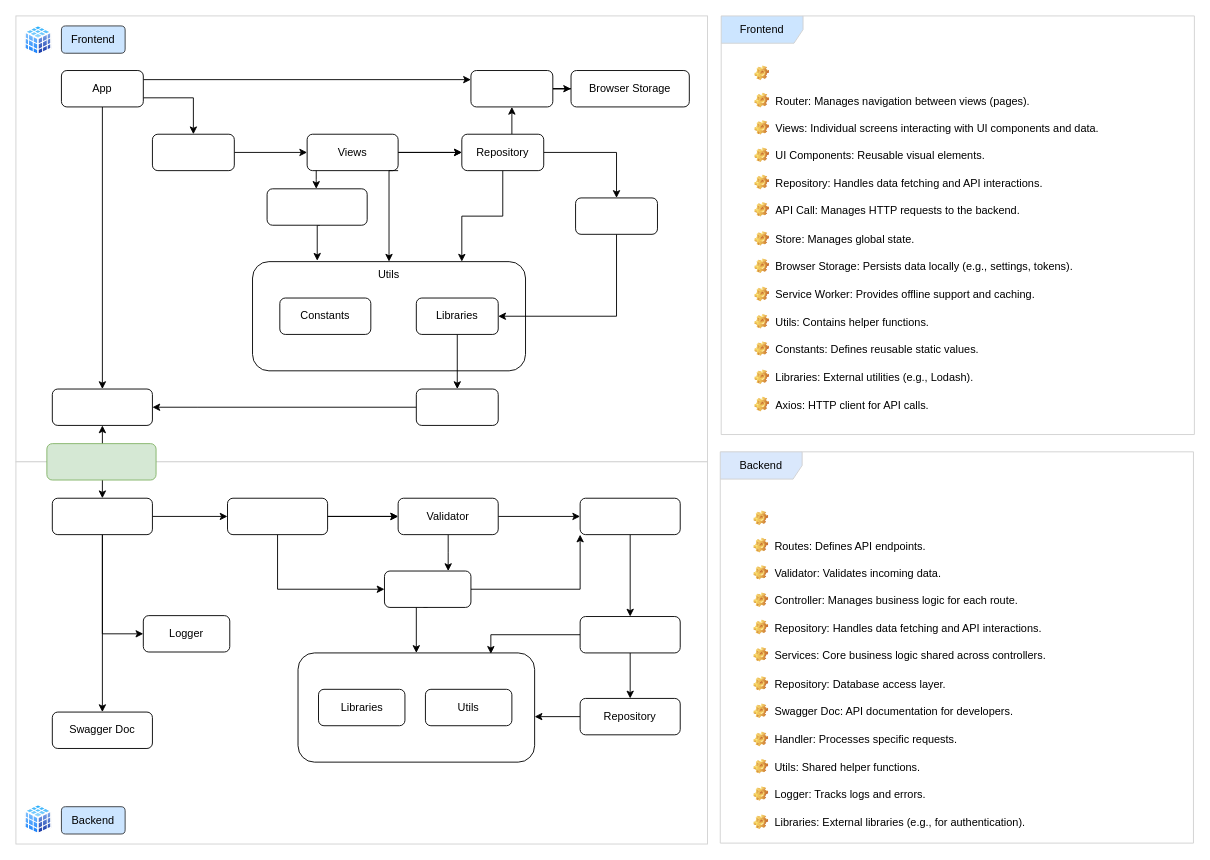
Some shapes in this 1210 by 860 pixel diagram are drawn without their labels. The shapes that lost their labels are listed below. From the top down, each one's box as (x1, y1, x2, y2) in pixels, then its label:
(470, 70, 553, 107): S tore
(748, 61, 1030, 85): App: Initializes the main application logic.
(152, 133, 234, 171): router
(266, 188, 367, 225): UI Components
(575, 197, 657, 234): API Call
(51, 388, 152, 425): Service Worker
(415, 388, 498, 425): Axios
(46, 443, 156, 480): Communication
(51, 497, 152, 535): Server
(227, 497, 328, 535): Routes
(579, 497, 680, 535): Controller
(747, 506, 1029, 530): Server: Entry point for backend requests.
(384, 570, 471, 607): Handler
(579, 616, 680, 653): Services
